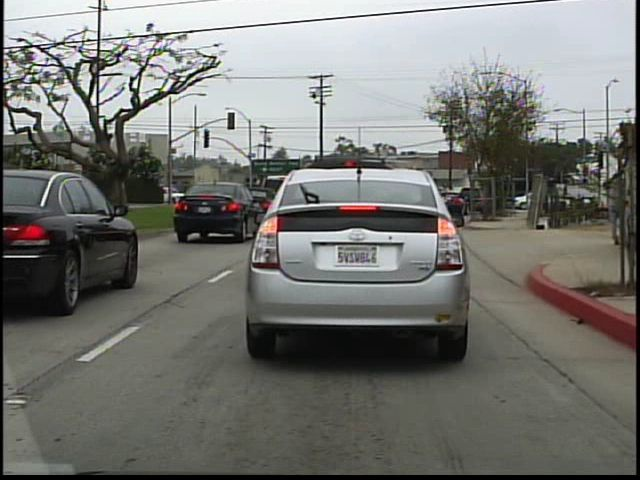person: (606, 160, 625, 248)
